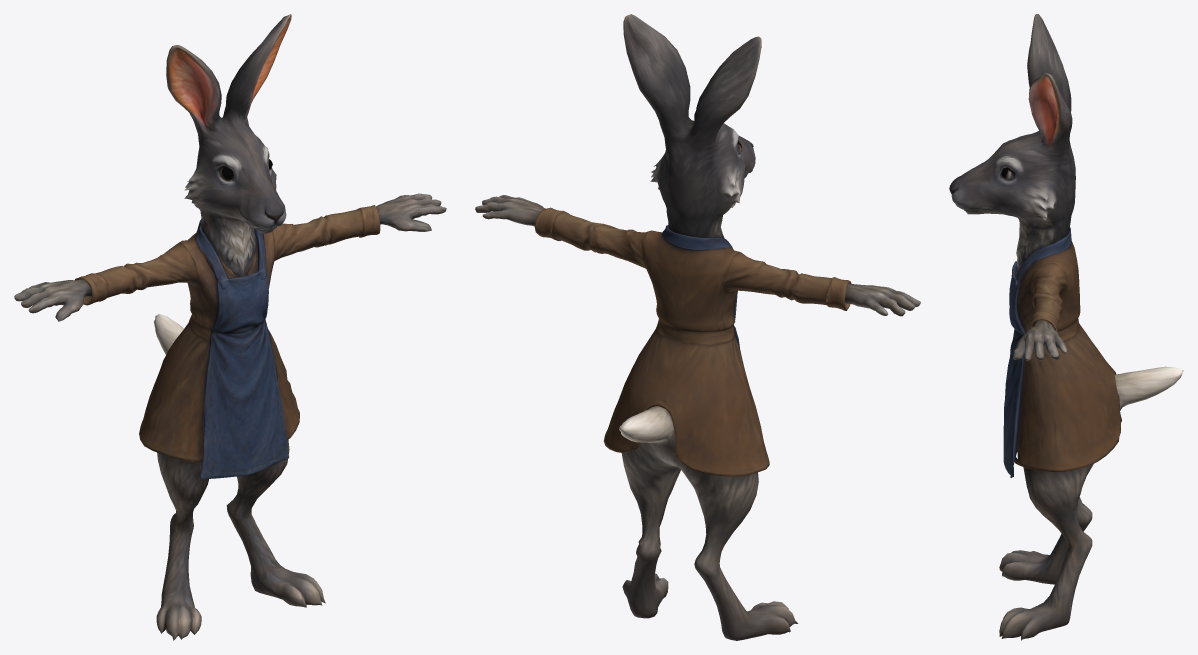
Rendered from source.glb.
3 renders of one model, left to right at view 1: azimuth 30°, elevation 25°; view 2: azimuth 150°, elevation 25°; view 3: azimuth 270°, elevation 25°, orthographic. The views are drawn at different scales.
Parts seen in each view (by area): view 1: geometry_0; view 2: geometry_0; view 3: geometry_0.
Boxes of the visible parts, x1,y1,x2,y2 form: geometry_0: [14, 14, 446, 640]; geometry_0: [475, 14, 920, 640]; geometry_0: [949, 14, 1183, 640].
Size of the model in its own units: 0.7241 by 0.9507 by 0.3589.
1 material, 1 textured.
